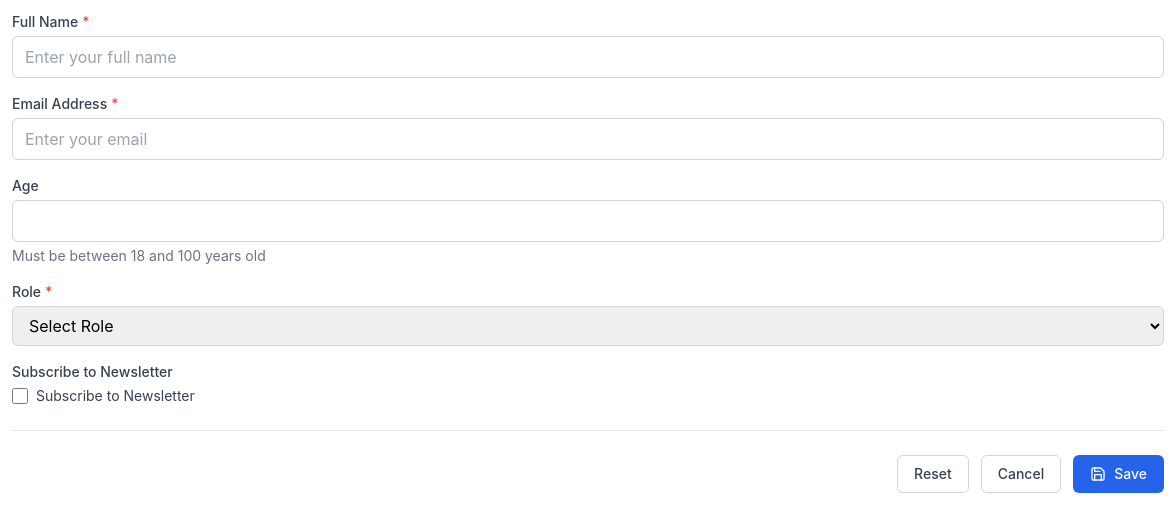
Scenario: SimpleForm › validates min/max values for number fields
Type "16" into the number field labelled "Age" at (588, 221), box [12,200,1164,242]
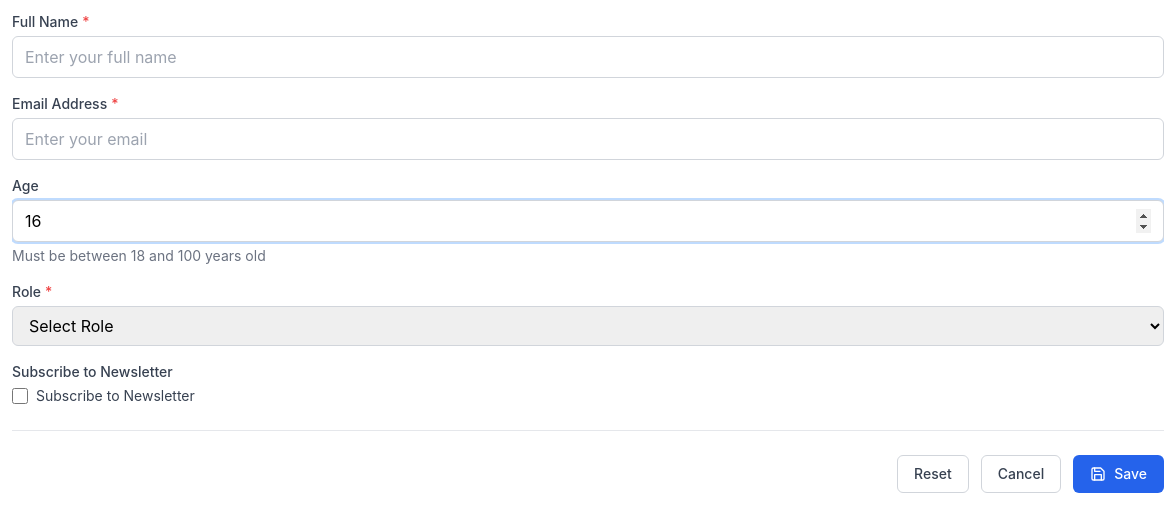
Leave the number field labelled "Age", box [12,200,1164,242]
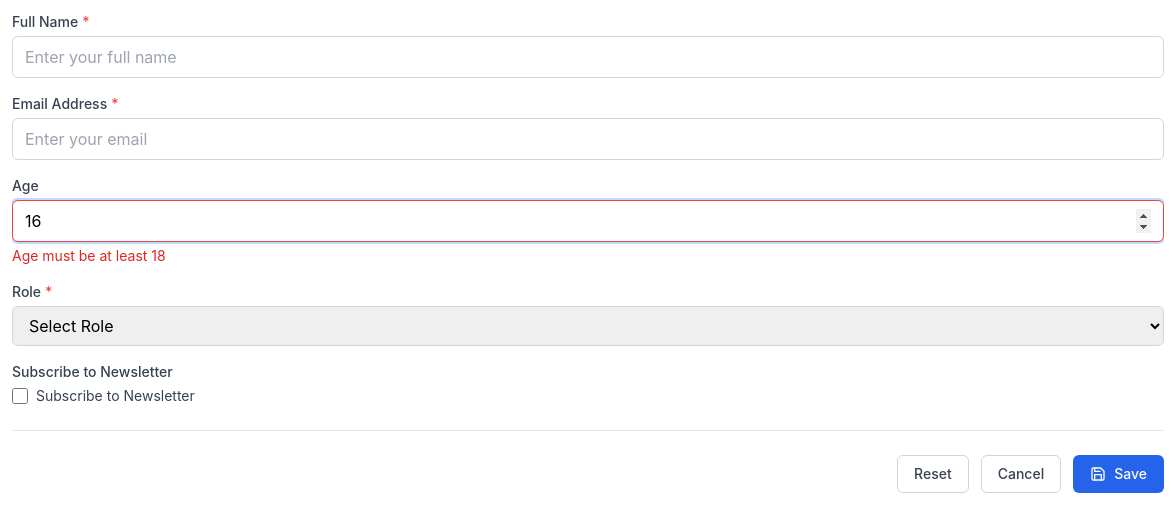
Expected: the text "Age must be at least 18" is shown, [12,247,166,264]
